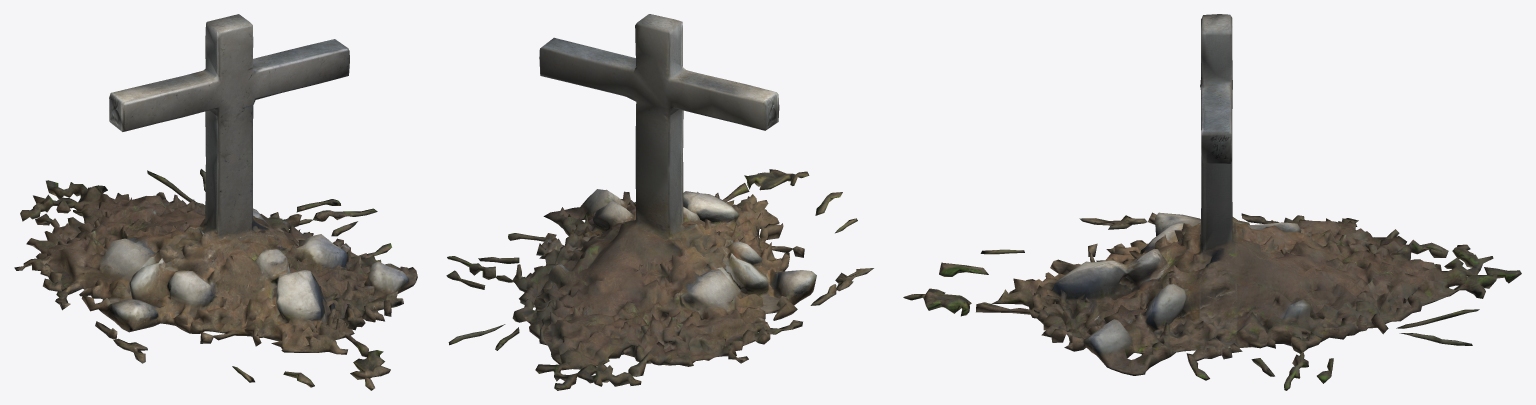
Rendered from 3d_small_simple_anima_0911131557_texture.fbx.
3 renders of one model, left to right at view 1: azimuth 30°, elevation 25°; view 2: azimuth 150°, elevation 25°; view 3: azimuth 270°, elevation 25°, orthographic. The views are drawn at different scales.
Parts seen in each view (by area): view 1: Mesh1.0; view 2: Mesh1.0; view 3: Mesh1.0.
Boxes of the visible parts, <box> form: Mesh1.0: <box>14,14,417,390</box>; Mesh1.0: <box>446,14,873,390</box>; Mesh1.0: <box>903,14,1521,390</box>.
Bounding box in the file's own units: 119 × 88.64 × 178.
Materials: 1 (1 with a texture image).
